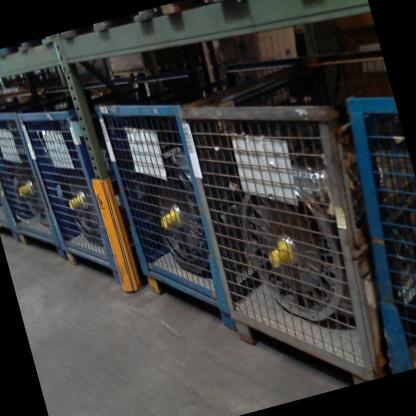pallet: (158, 0, 274, 30)
stillage: (168, 28, 416, 409), (91, 34, 358, 357), (10, 47, 245, 305), (0, 59, 147, 286), (317, 70, 416, 372), (0, 78, 59, 238)
